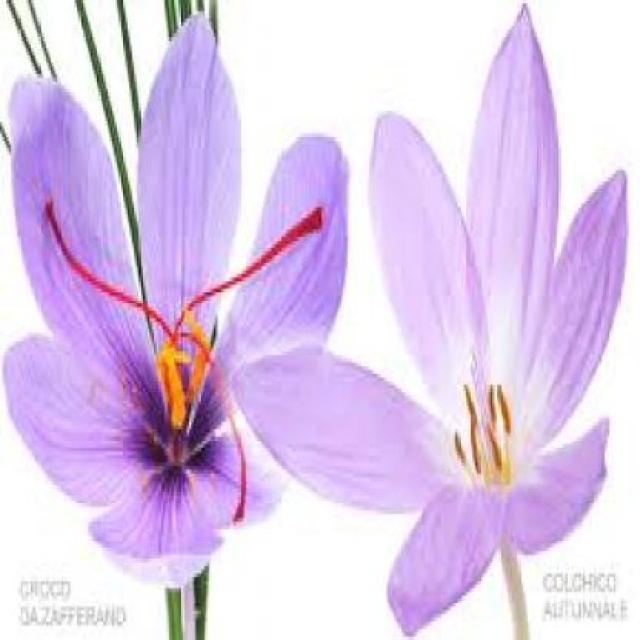Flower: (232, 3, 628, 629), (13, 70, 350, 590)
stigma: (171, 190, 325, 333), (40, 197, 172, 336), (204, 350, 253, 535)
